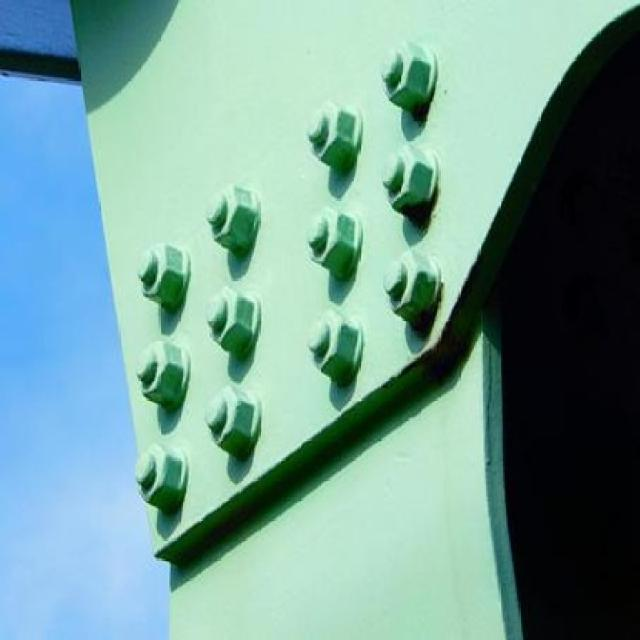Regular bolt: (195, 286, 269, 360), (196, 183, 272, 254), (126, 244, 198, 315), (300, 103, 374, 171), (378, 144, 450, 212), (298, 308, 365, 381), (137, 338, 200, 412), (129, 442, 191, 516), (384, 249, 445, 324), (207, 386, 271, 455), (301, 208, 363, 275), (376, 44, 438, 110)
